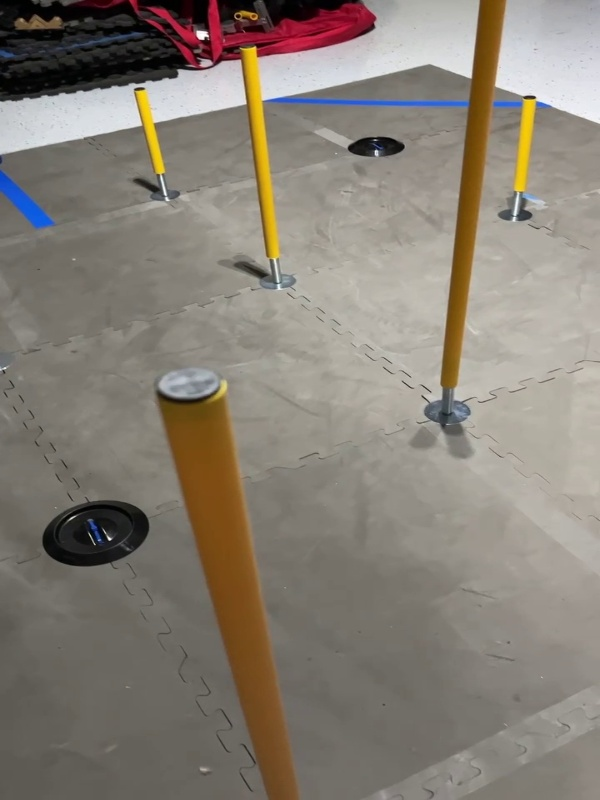top: (147, 362, 228, 408)
